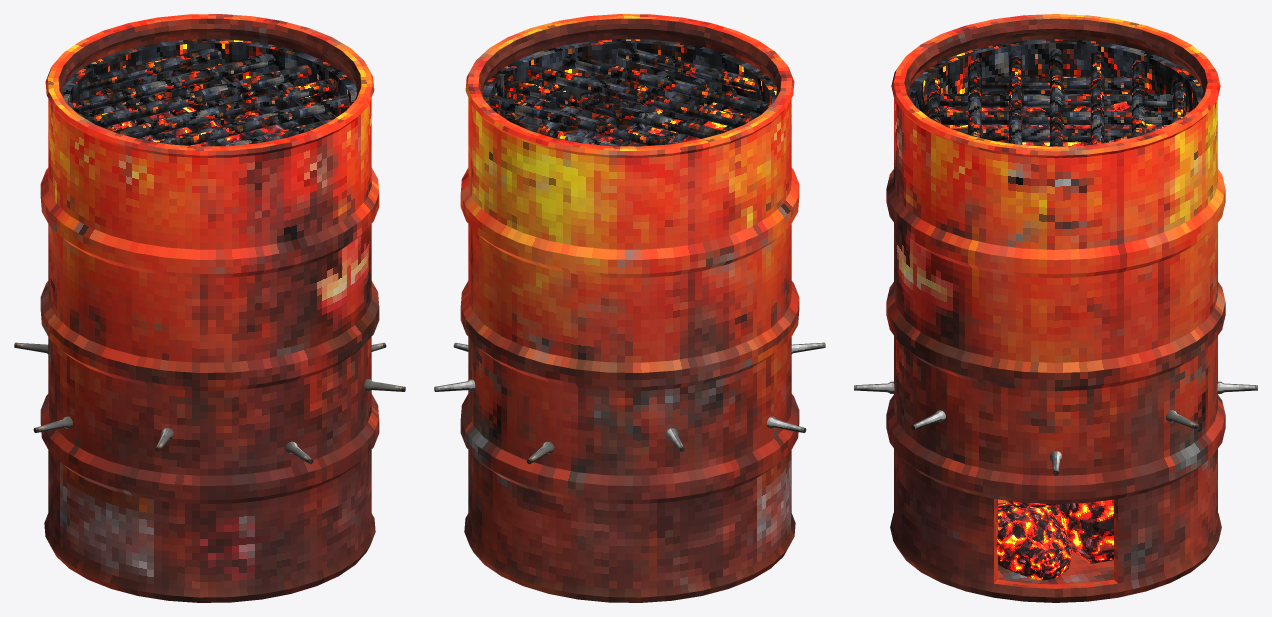
Rendered from prop-fire-barrel.glb.
3 views of the same model, side by side, from view 1: azimuth 30°, elevation 25°; view 2: azimuth 150°, elevation 25°; view 3: azimuth 270°, elevation 25° (orthographic).
Visible parts, largest first — view 1: Fire Barrel, Fire Barrel Grill Top, Fire Barrel Inner Ring, Fire Barrel Grill Top.001, Fire Barrel Spikes Maybe Delete, Fire Barrel Hot Coals; view 2: Fire Barrel, Fire Barrel Grill Top, Fire Barrel Inner Ring, Fire Barrel Grill Top.001, Fire Barrel Spikes Maybe Delete, Fire Barrel Hot Coals; view 3: Fire Barrel, Fire Barrel Hot Coals, Fire Barrel Inner Ring, Fire Barrel Grill Top.001, Fire Barrel Grill Top, Fire Barrel Spikes Maybe Delete.
Boxes of the visible parts, x1=… form: Fire Barrel: x1=40, y1=14, x2=379, y2=602; Fire Barrel Grill Top: x1=68, y1=48, x2=349, y2=146; Fire Barrel Inner Ring: x1=63, y1=39, x2=356, y2=125; Fire Barrel Grill Top.001: x1=78, y1=71, x2=336, y2=146; Fire Barrel Spikes Maybe Delete: x1=14, y1=342, x2=405, y2=464; Fire Barrel Hot Coals: x1=112, y1=106, x2=283, y2=146; Fire Barrel: x1=460, y1=14, x2=799, y2=602; Fire Barrel Grill Top: x1=490, y1=49, x2=771, y2=146; Fire Barrel Inner Ring: x1=483, y1=39, x2=776, y2=131; Fire Barrel Grill Top.001: x1=503, y1=71, x2=761, y2=146; Fire Barrel Spikes Maybe Delete: x1=434, y1=342, x2=825, y2=464; Fire Barrel Hot Coals: x1=573, y1=109, x2=742, y2=146; Fire Barrel: x1=886, y1=14, x2=1225, y2=602; Fire Barrel Hot Coals: x1=942, y1=102, x2=1168, y2=580; Fire Barrel Inner Ring: x1=909, y1=39, x2=1202, y2=111; Fire Barrel Grill Top.001: x1=921, y1=76, x2=1190, y2=146; Fire Barrel Grill Top: x1=927, y1=49, x2=1185, y2=146; Fire Barrel Spikes Maybe Delete: x1=854, y1=381, x2=1257, y2=475.
Bounding box in the file's own units: 0.9657 × 1.19 × 0.9657.
Materials: 1 (1 with a texture image).
